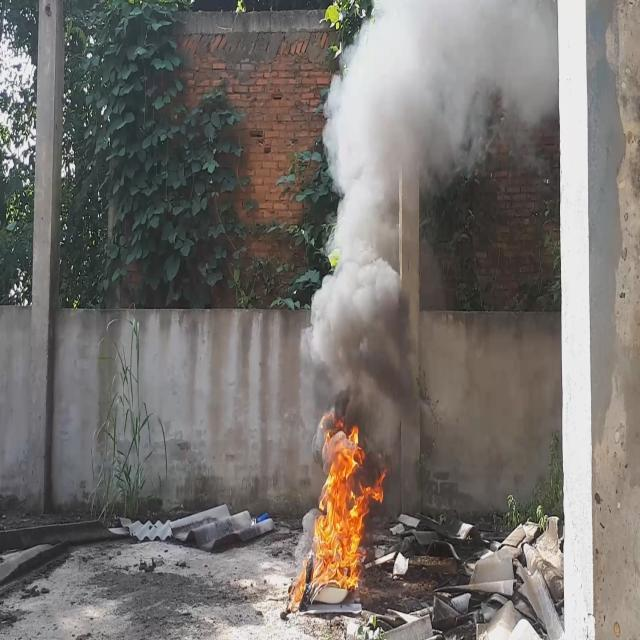Fire: (312, 420, 388, 586)
Smoke: (301, 0, 556, 476)
